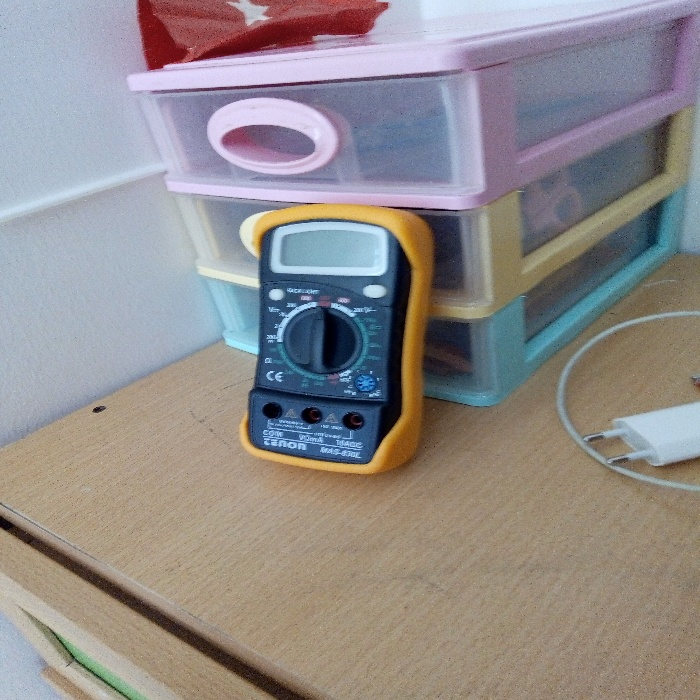multimetre: (213, 185, 450, 486)
